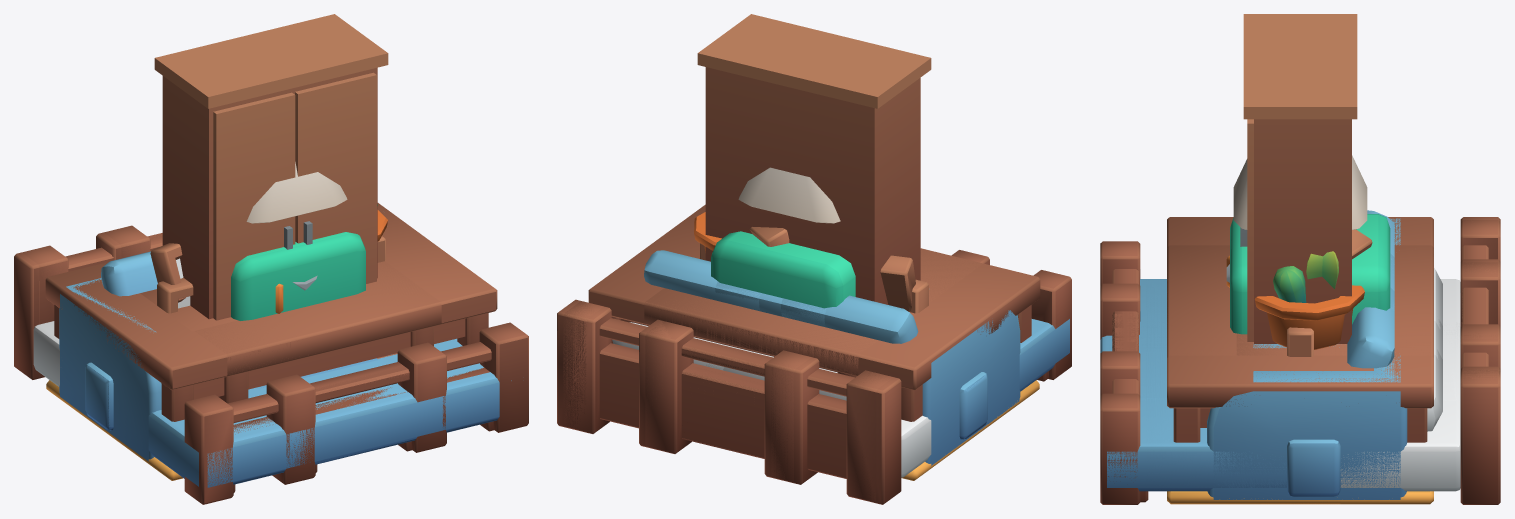
The model's file is furniture.glb.
3 views of the same model, side by side, from view 1: azimuth 30°, elevation 25°; view 2: azimuth 150°, elevation 25°; view 3: azimuth 270°, elevation 25° (orthographic). The views are drawn at different scales.
Visible parts, largest first — view 1: wardrobe, table_medium_long, bed_double_B, bed_double_A, table_medium, couch, bed_single_B, fridge:door, bed_single_A, lamp_standing, cabinet_medium_decorated, pictureframe_large_B (+1 smaller); view 2: wardrobe, bed_double_A, table_medium_long, bed_double_B, couch, bed_single_A, table_medium, fridge, bed_single_B, lamp_standing, cabinet_medium_decorated, armchair (+3 smaller); view 3: wardrobe, bed_double_B, couch, bed_double_A, table_medium_long, table_medium, cabinet_medium_decorated, bed_single_B, bed_single_A, fridge, fridge:door, rug_rectangle_A (+4 smaller).
Boxes of the visible parts, box(x1,y1,x2,y2) form: wardrobe: box(154, 14, 388, 320); table_medium_long: box(45, 203, 497, 421); bed_double_B: box(14, 238, 528, 504); bed_double_A: box(22, 233, 511, 492); table_medium: box(103, 261, 441, 403); couch: box(59, 251, 161, 461); bed_single_B: box(96, 232, 446, 484); fridge:door: box(231, 232, 365, 320); bed_single_A: box(104, 225, 442, 472); lamp_standing: box(246, 162, 347, 223); cabinet_medium_decorated: box(140, 204, 388, 331); pictureframe_large_B: box(157, 236, 385, 313); wardrobe: box(697, 14, 931, 304); bed_double_A: box(563, 301, 1069, 502); table_medium_long: box(588, 204, 1040, 421); bed_double_B: box(557, 270, 1071, 504); couch: box(644, 250, 1020, 465); bed_single_A: box(645, 321, 811, 483); table_medium: box(644, 248, 982, 377); fridge: box(711, 231, 855, 308); bed_single_B: box(639, 250, 989, 484); lamp_standing: box(738, 167, 840, 223); cabinet_medium_decorated: box(694, 212, 917, 316); armchair: box(715, 281, 825, 327); wardrobe: box(1240, 14, 1357, 343); bed_double_B: box(1100, 217, 1500, 504); couch: box(1207, 210, 1407, 499); bed_double_A: box(1100, 220, 1500, 502); table_medium_long: box(1167, 217, 1433, 442); table_medium: box(1167, 245, 1433, 357); cabinet_medium_decorated: box(1236, 251, 1364, 354); bed_single_B: box(1100, 259, 1500, 400); bed_single_A: box(1103, 262, 1500, 400); fridge: box(1352, 214, 1390, 324); fridge:door: box(1226, 218, 1247, 334); rug_rectangle_A: box(1167, 491, 1433, 504).
Bounding box in the file's own units: 2.41 × 2.32 × 2.33.
3 materials, 3 textured.
